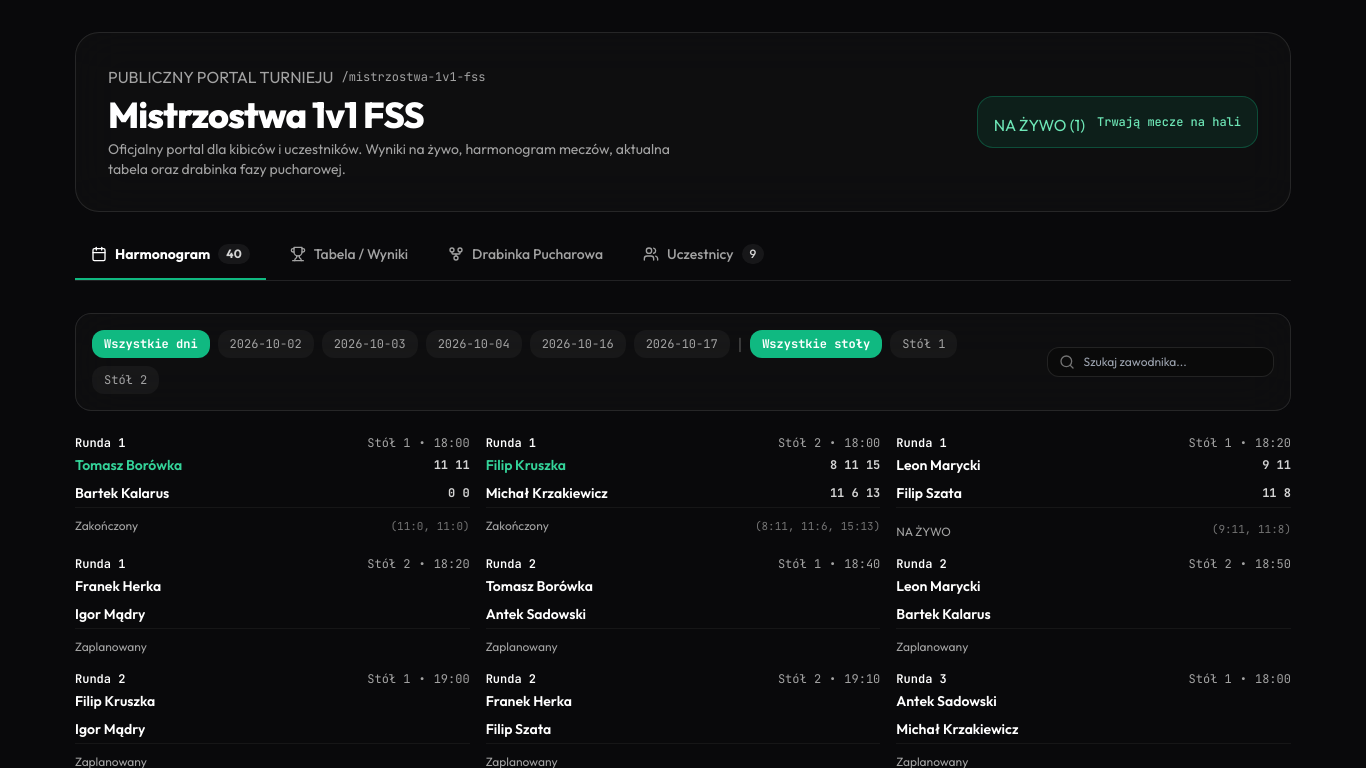
it: Challenger M4-2: Empirical Stress Test Suite › 4. Walkover Score Propagation to Standings › 4.4 SpectatorPortal UI: live standings reflect walkover sets (2:0 / +2) and points (22:0 / +22) immediately
This screenshot has width=1366, height=768.
# Switch to standings tab
Click the button "Tabela / Wyniki". click: click(349, 262)
box: [274, 244, 424, 280]
(page scrolled)
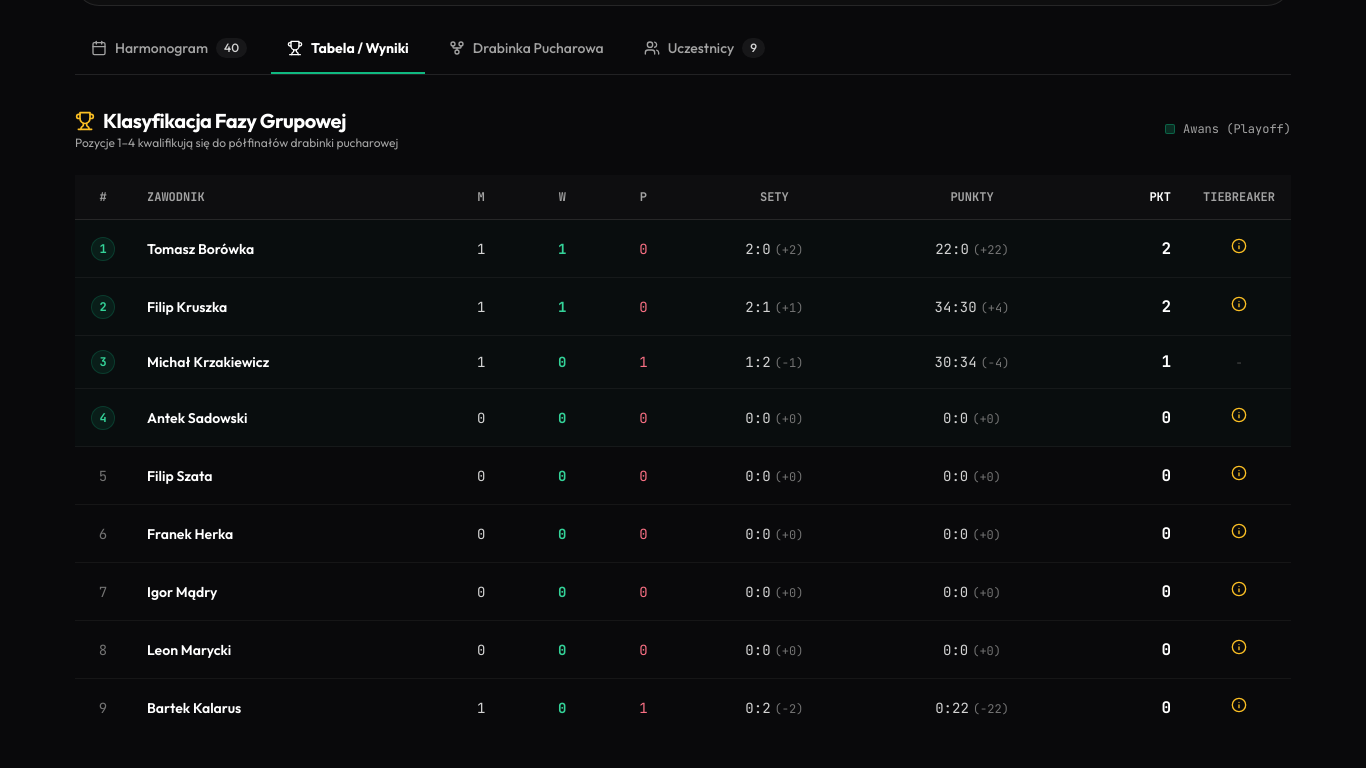
Now the text "2:0" is shown, box [684, 220, 865, 278]
Now the text "(+2)" is shown, box [774, 242, 803, 258]
Now the text "22:0" is shown, box [865, 220, 1079, 278]
